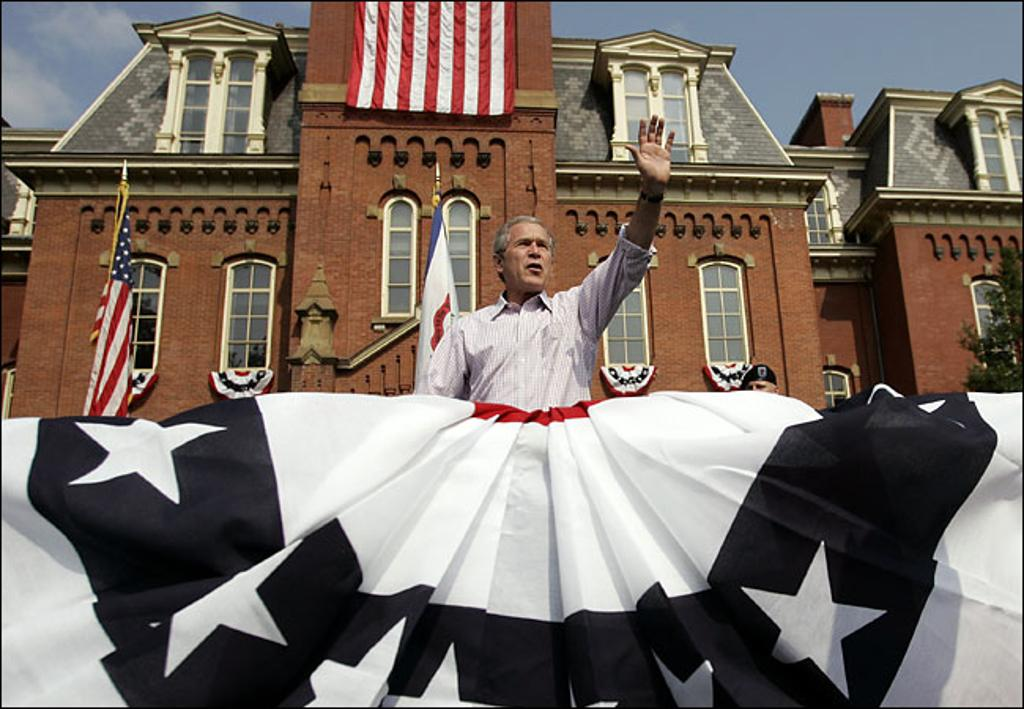face: (500, 225, 550, 284), (746, 379, 774, 413)
